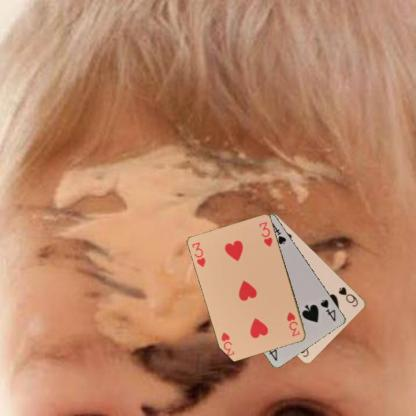3h: (189, 240, 207, 268), (284, 309, 301, 338)
4s: (318, 297, 337, 323)
6s: (336, 284, 359, 308)
